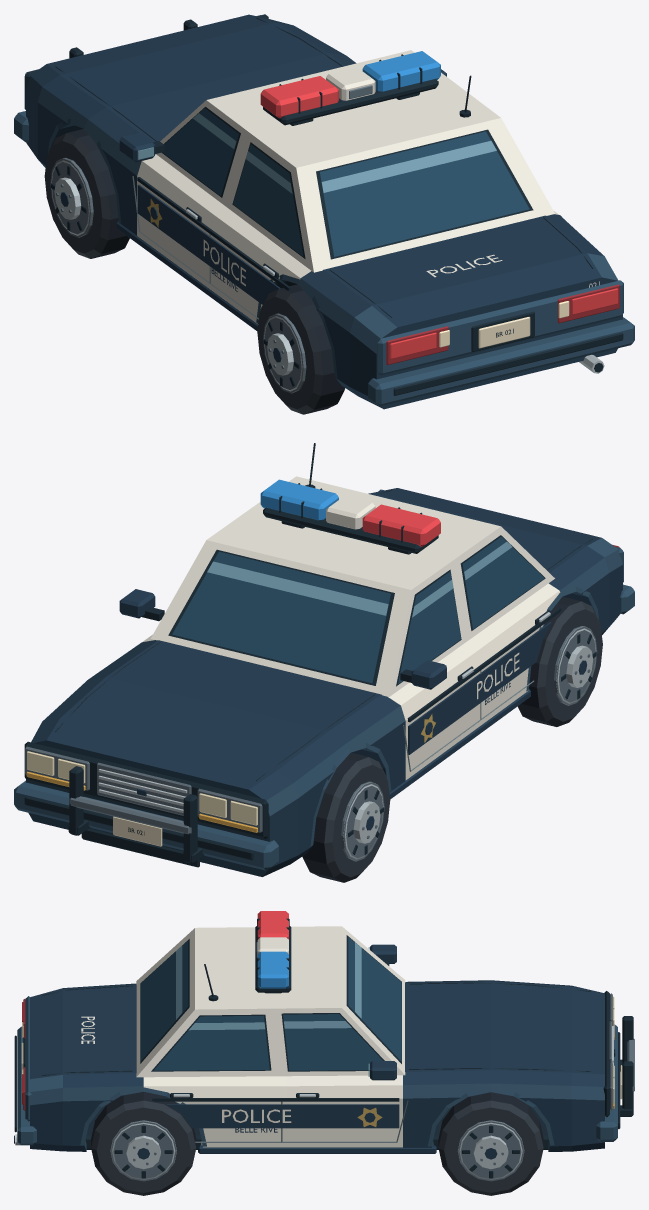
File: police_cruiser.glb
3 renders of one model, top to bottom at view 1: azimuth 30°, elevation 25°; view 2: azimuth 150°, elevation 25°; view 3: azimuth 270°, elevation 25°, orthographic. The views are drawn at different scales.
Visible parts, largest first — view 1: BodyMesh, RearLeftSpinMesh, FrontLeftSpinMesh, RedLightMesh, BlueLightMesh; view 2: BodyMesh, FrontLeftSpinMesh, RearLeftSpinMesh, RedLightMesh, BlueLightMesh; view 3: BodyMesh, FrontRightSpinMesh, RearRightSpinMesh, BlueLightMesh, RedLightMesh.
Boxes of the visible parts, box(x1,y1,x2,y2) form: BodyMesh: box(14, 14, 634, 409); RearLeftSpinMesh: box(257, 284, 345, 414); FrontLeftSpinMesh: box(44, 129, 129, 258); RedLightMesh: box(260, 76, 338, 118); BlueLightMesh: box(362, 51, 440, 91); BodyMesh: box(14, 443, 634, 876); FrontLeftSpinMesh: box(302, 752, 390, 882); RearLeftSpinMesh: box(517, 596, 602, 726); RedLightMesh: box(362, 504, 440, 546); BlueLightMesh: box(260, 479, 338, 520); BodyMesh: box(14, 918, 634, 1153); FrontRightSpinMesh: box(438, 1092, 543, 1195); RearRightSpinMesh: box(91, 1091, 196, 1195); BlueLightMesh: box(257, 951, 288, 988); RedLightMesh: box(257, 911, 288, 939).
Size of the model in its own units: 2.42 by 1.87 by 5.08.
